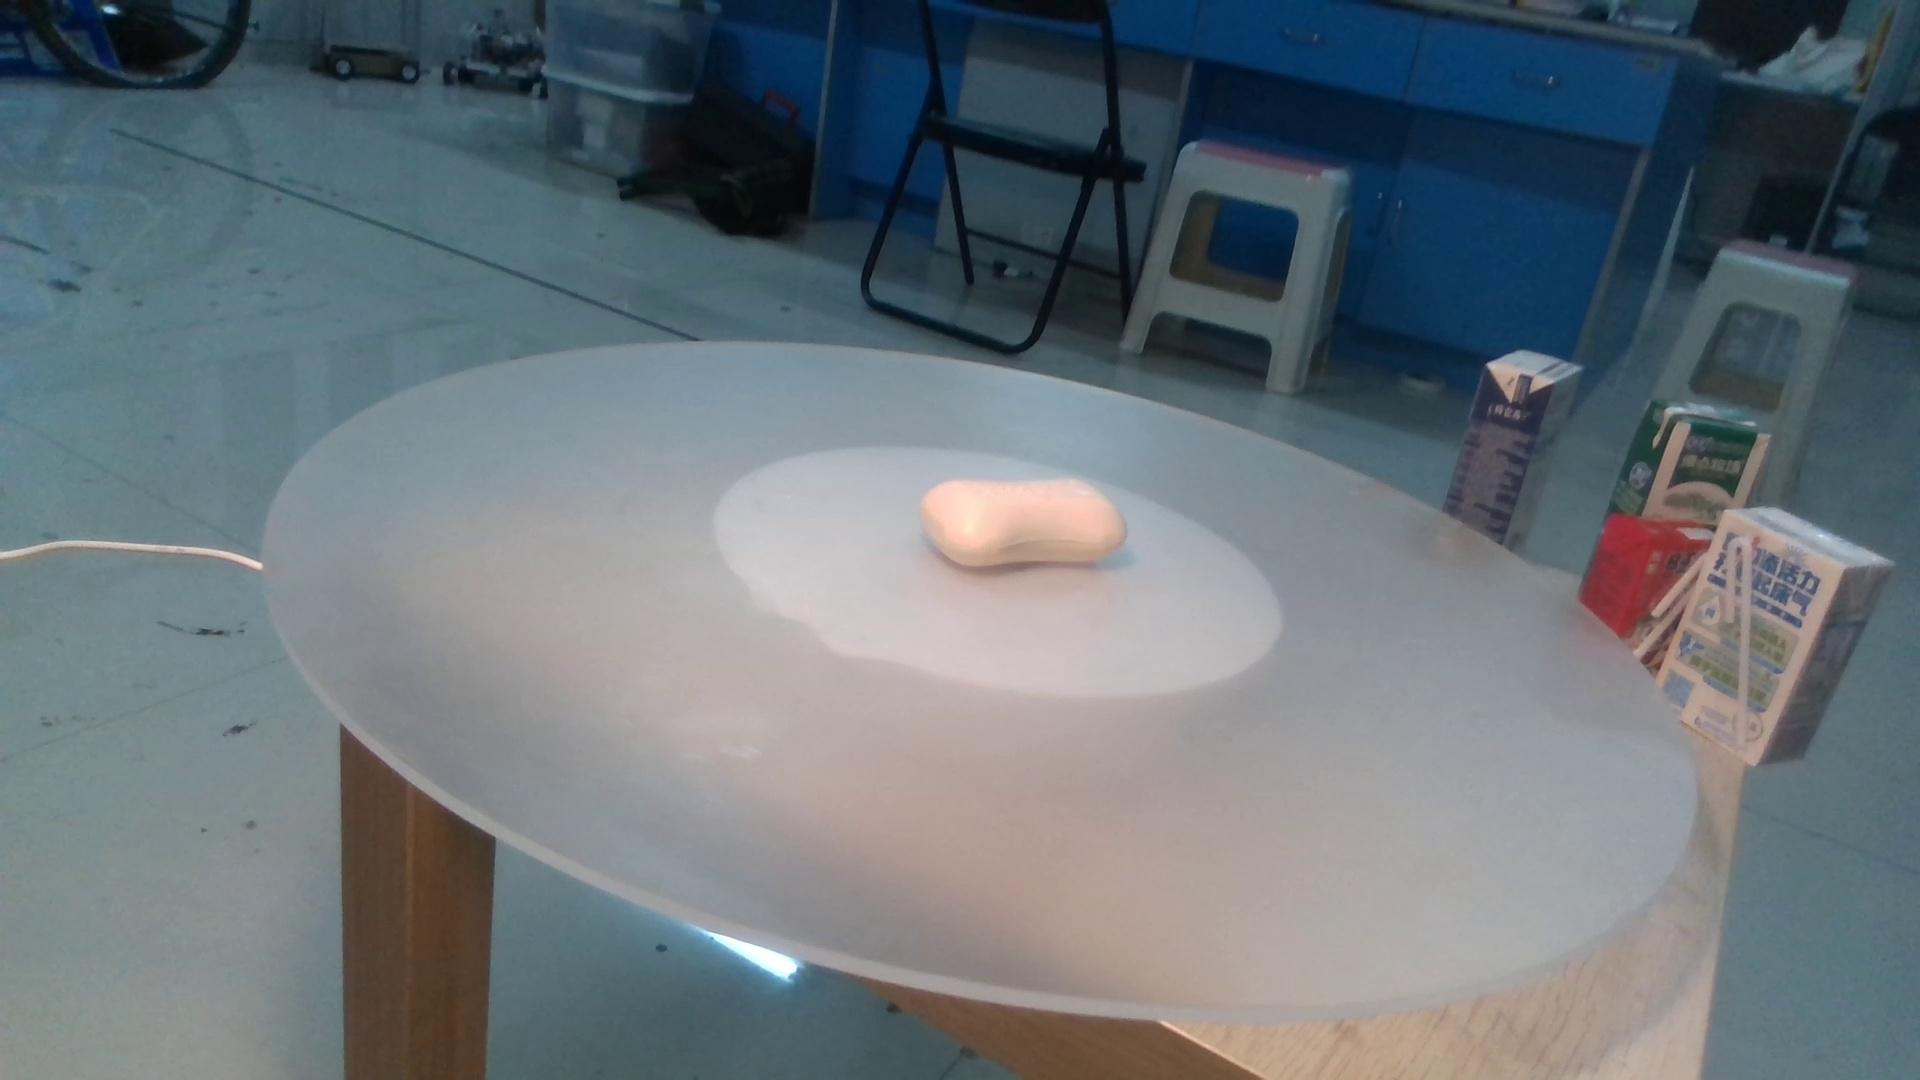CA003_1: (906, 435, 1159, 603)
